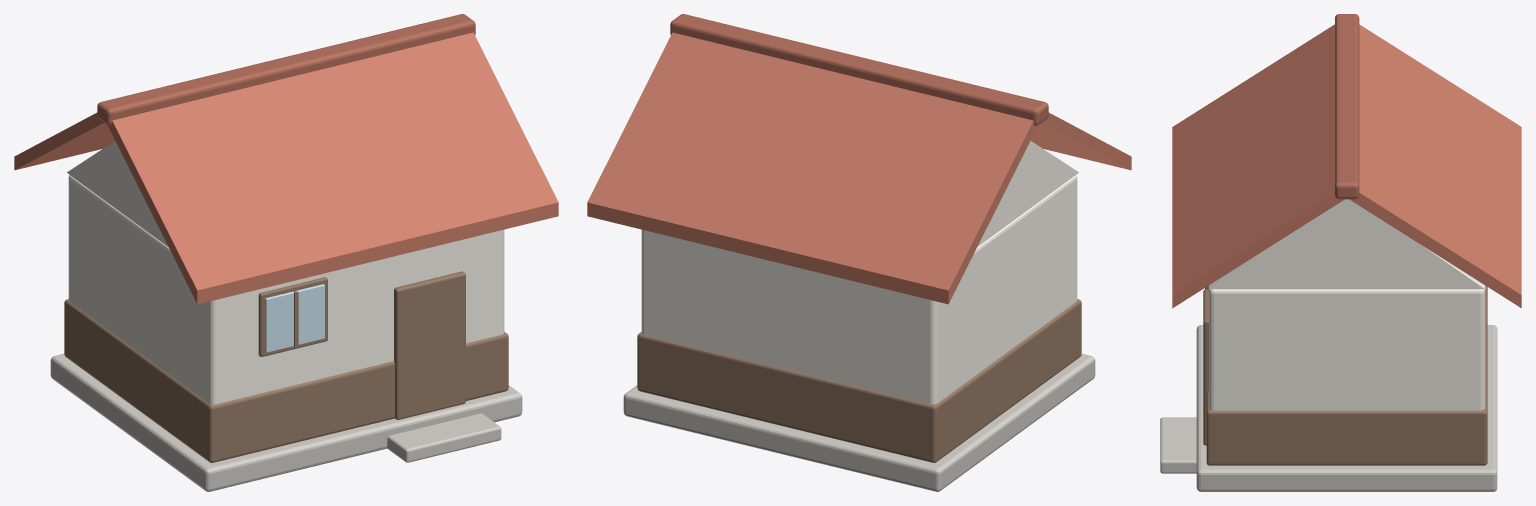
The model's file is house.glb.
The picture shows the model from 3 angles, left to right: view 1: azimuth 30°, elevation 25°; view 2: azimuth 150°, elevation 25°; view 3: azimuth 270°, elevation 25°; orthographic projection. The views are drawn at different scales.
Parts seen in each view (by area): view 1: house; view 2: house; view 3: house.
Boxes of the visible parts, x1=… form: house: x1=14, y1=14, x2=558, y2=491; house: x1=587, y1=14, x2=1131, y2=491; house: x1=1160, y1=14, x2=1521, y2=491.
Size of the model in its own units: 5 by 4.36 by 4.45.
